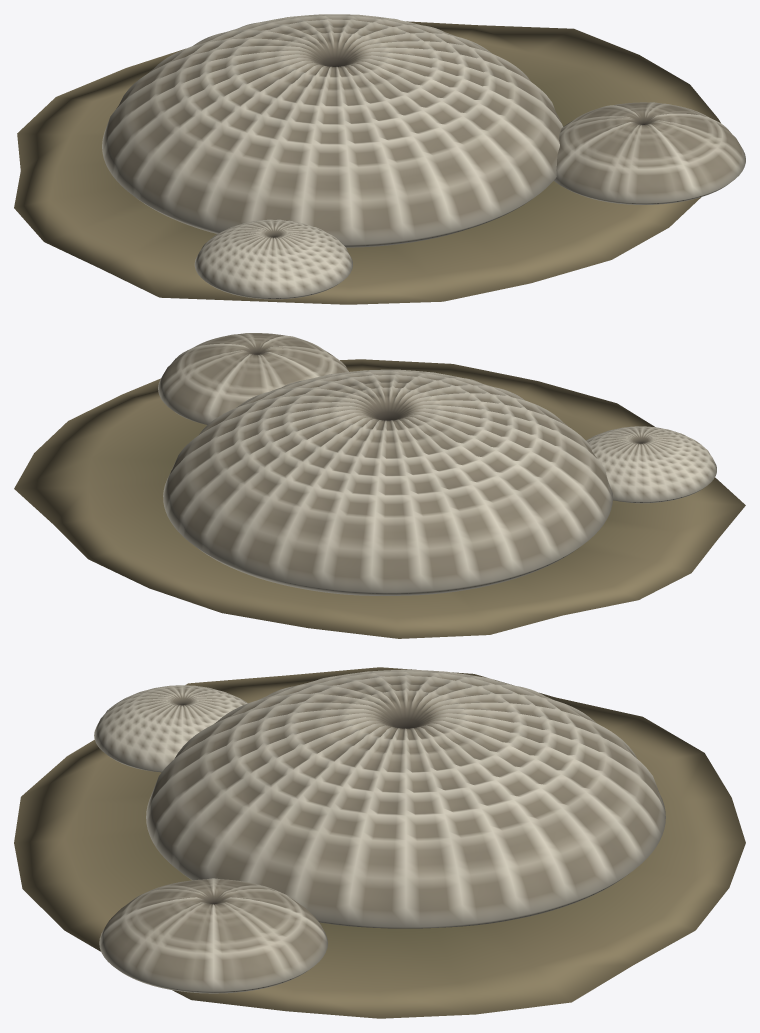
The model's file is Palaeophragmodictya.fbx.
The picture shows the model from 3 angles, top to bottom: view 1: azimuth 30°, elevation 25°; view 2: azimuth 150°, elevation 25°; view 3: azimuth 270°, elevation 25°; orthographic projection. The views are drawn at different scales.
Parts seen in each view (by area): view 1: Palaeophragmodictya; view 2: Palaeophragmodictya; view 3: Palaeophragmodictya.
Part boxes in pixels (x1,y1,x2,y2): Palaeophragmodictya: [14, 14, 745, 304]; Palaeophragmodictya: [14, 333, 745, 638]; Palaeophragmodictya: [14, 667, 745, 1018].
Size of the model in its own units: 1.6 by 0.2523 by 1.41.
